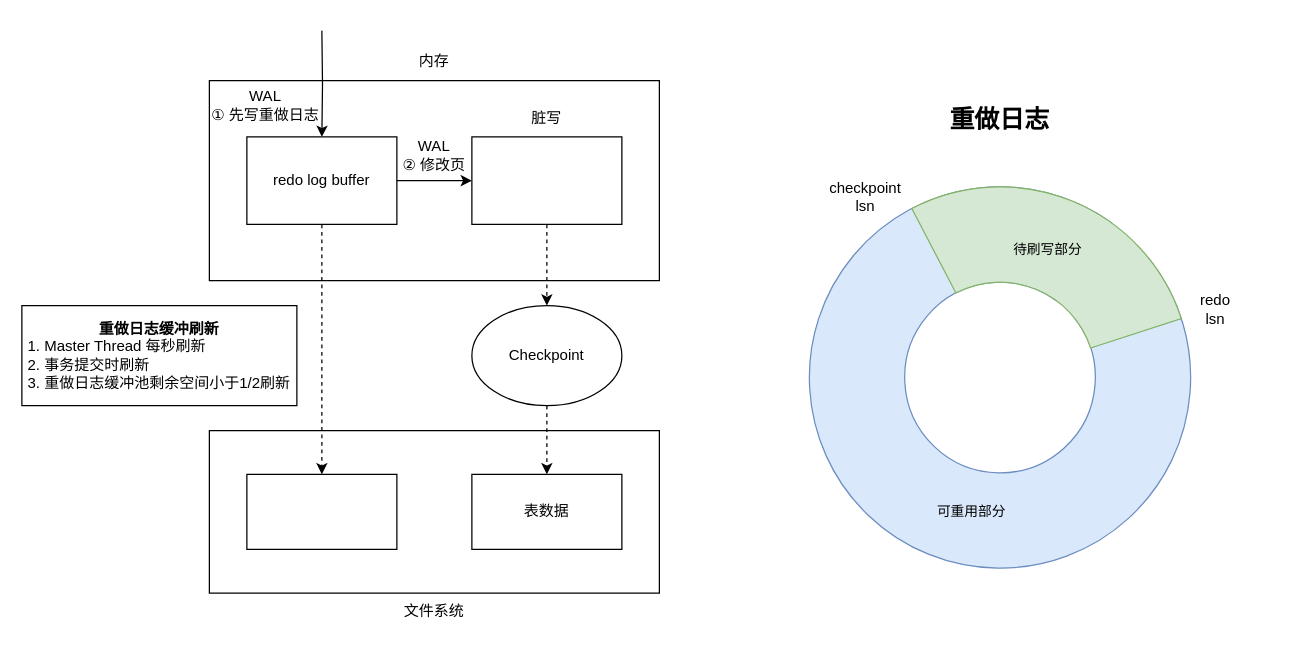
The diagram is 1294 pixels wide and 653 high, and some of its shapes have lost their labels. The shapes that lost their labels are listed below. From the top down, each one's centre as x and y in pixels, then its label:
At point 546,180: "缓冲池 LRU列表".
At point 321,511: "redo log file".
